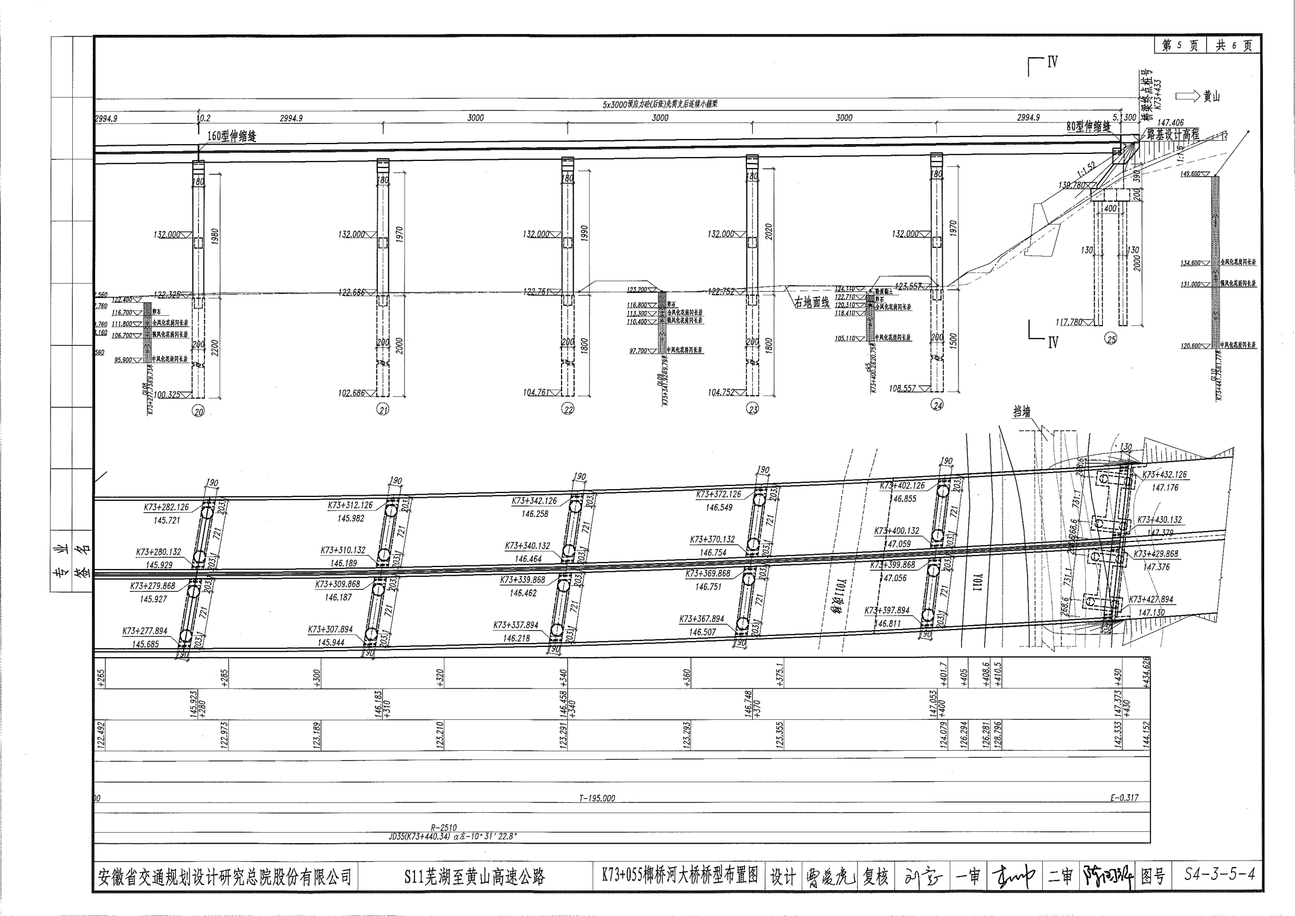A: (88, 54, 1270, 426)
